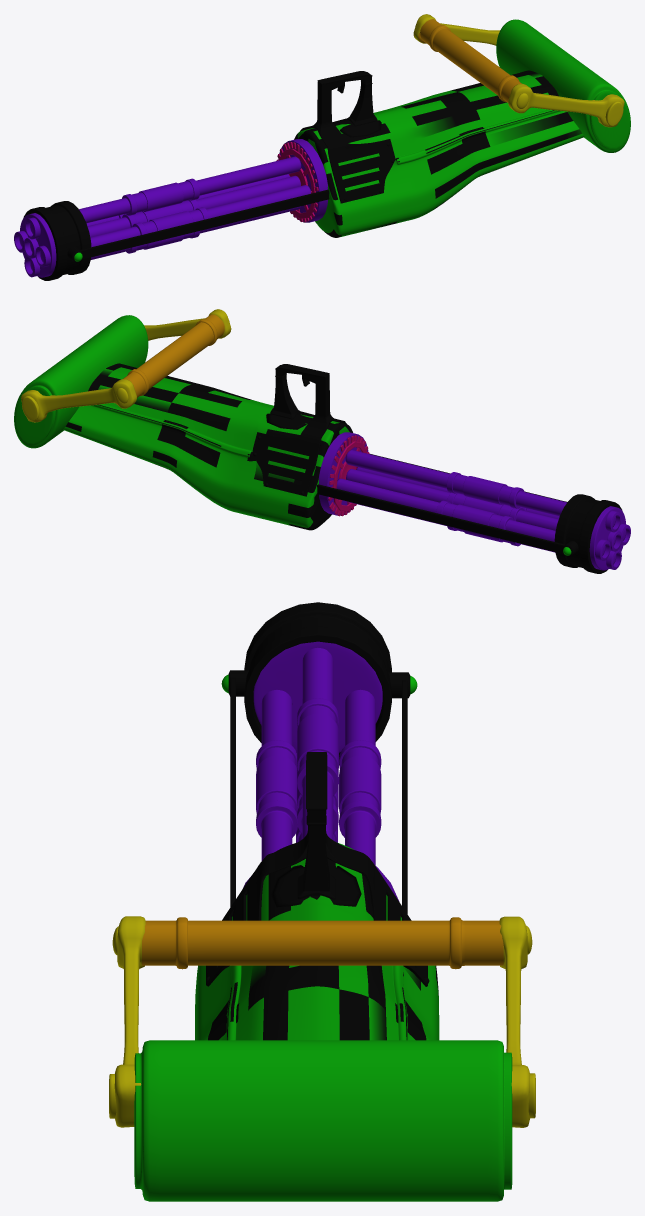
File: MachineGunnnnnnnnnnEnd.fbx
3 renders of one model, top to bottom at view 1: azimuth 30°, elevation 25°; view 2: azimuth 150°, elevation 25°; view 3: azimuth 270°, elevation 25°, orthographic. The views are drawn at different scales.
Parts seen in each view (by area): view 1: main_Machine, Muzzels_Moving, Hand_Lever, parts; view 2: main_Machine, Muzzels_Moving, Hand_Lever, parts; view 3: main_Machine, Hand_Lever, Muzzels_Moving, parts.
Part boxes in pixels (x1,y1,x2,y2): main_Machine: [23, 19, 630, 280]; Muzzels_Moving: [14, 139, 327, 277]; Hand_Lever: [413, 14, 624, 127]; parts: [300, 71, 395, 203]; main_Machine: [14, 315, 622, 573]; Muzzels_Moving: [318, 432, 630, 570]; Hand_Lever: [21, 309, 231, 422]; parts: [252, 364, 346, 496]; main_Machine: [134, 602, 512, 1201]; Hand_Lever: [109, 916, 535, 1127]; Muzzels_Moving: [243, 641, 399, 901]; parts: [206, 752, 429, 986].
Bounding box in the file's own units: 11.31 × 2.66 × 3.75.
